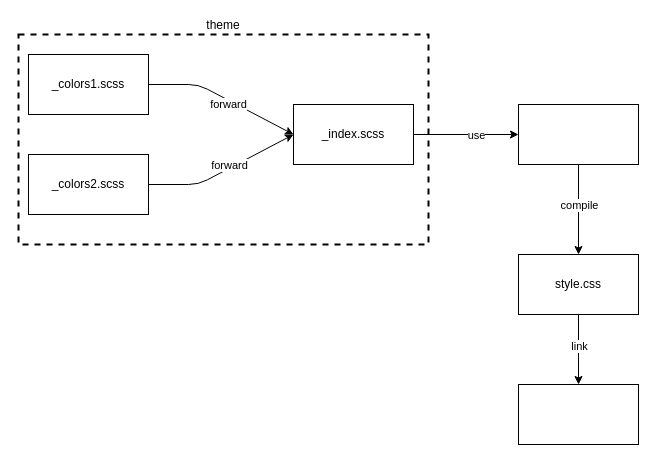
The diagram is 656 pixels wide and 462 high, and some of its shapes have lost their labels. The box of each missing label's shape, as (x1, y1, x2, y2) in pixels:
index.html: (518, 384, 638, 444)
style.scss: (518, 104, 638, 164)
